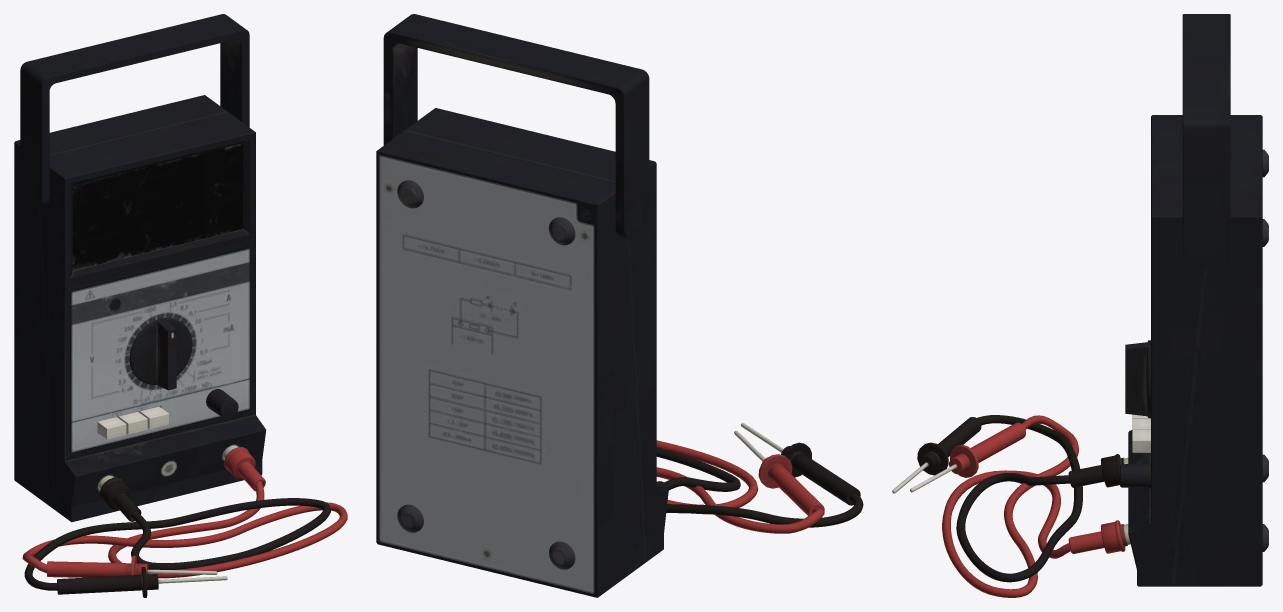
File: retro_multimeter.glb
3 views of the same model, side by side, from view 1: azimuth 30°, elevation 25°; view 2: azimuth 150°, elevation 25°; view 3: azimuth 270°, elevation 25° (orthographic). The views are drawn at different scales.
Visible parts, largest first — view 1: retro_multimeter_LOD0, retro_multimeter_cables_LOD0, retro_multimeter_handle_LOD0, retro_multimeter_dial_LOD0, retro_multimeter_buttons_LOD0, retro_multimeter_knob_LOD0; view 2: retro_multimeter_LOD0, retro_multimeter_handle_LOD0, retro_multimeter_cables_LOD0; view 3: retro_multimeter_LOD0, retro_multimeter_cables_LOD0, retro_multimeter_handle_LOD0, retro_multimeter_dial_LOD0, retro_multimeter_knob_LOD0, retro_multimeter_buttons_LOD0.
Boxes of the visible parts, x1=… form: retro_multimeter_LOD0: x1=14, y1=95, x2=266, y2=522; retro_multimeter_cables_LOD0: x1=22, y1=445, x2=347, y2=597; retro_multimeter_handle_LOD0: x1=20, y1=14, x2=249, y2=207; retro_multimeter_dial_LOD0: x1=129, y1=318, x2=192, y2=390; retro_multimeter_buttons_LOD0: x1=97, y1=406, x2=168, y2=439; retro_multimeter_knob_LOD0: x1=206, y1=389, x2=238, y2=418; retro_multimeter_LOD0: x1=376, y1=108, x2=668, y2=597; retro_multimeter_handle_LOD0: x1=383, y1=14, x2=649, y2=238; retro_multimeter_cables_LOD0: x1=656, y1=423, x2=863, y2=533; retro_multimeter_LOD0: x1=1128, y1=115, x2=1268, y2=586; retro_multimeter_cables_LOD0: x1=892, y1=415, x2=1130, y2=597; retro_multimeter_handle_LOD0: x1=1182, y1=14, x2=1230, y2=266; retro_multimeter_dial_LOD0: x1=1125, y1=340, x2=1150, y2=418; retro_multimeter_knob_LOD0: x1=1120, y1=463, x2=1150, y2=487; retro_multimeter_buttons_LOD0: x1=1132, y1=414, x2=1150, y2=452.
Size of the model in its own units: 0.216 by 0.2786 by 0.2026.
2 materials, 2 textured.
